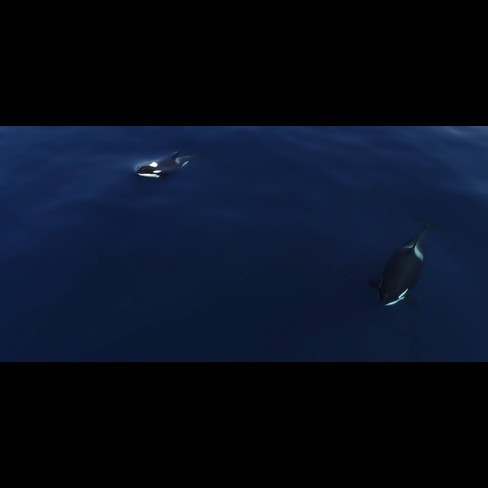orca: (374, 205, 443, 320), (135, 148, 210, 185)
